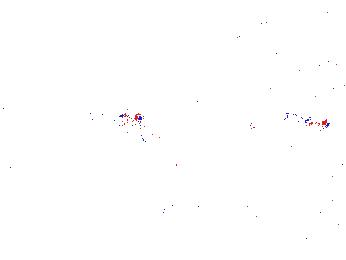glassfish: (132, 122, 188, 175), (122, 201, 174, 229)
red belly glassfish: (94, 108, 146, 127), (282, 111, 331, 130), (210, 118, 256, 138)
